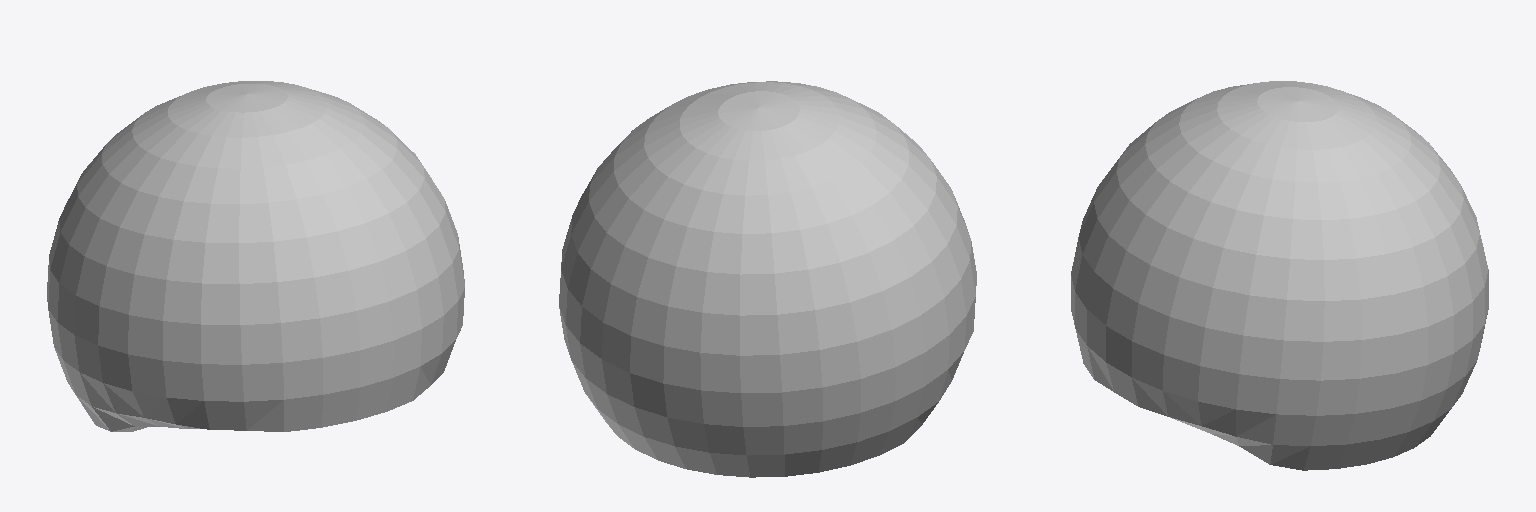
File: house_top.obj
The picture shows the model from 3 angles: view 1: azimuth 30°, elevation 25°; view 2: azimuth 150°, elevation 25°; view 3: azimuth 270°, elevation 25°; orthographic projection.
Visible parts, largest first — view 1: Mushroom_House_hat; view 2: Mushroom_House_hat; view 3: Mushroom_House_hat.
Boxes of the visible parts, x1,y1,x2,y2 form: Mushroom_House_hat: [47, 81, 464, 431]; Mushroom_House_hat: [559, 81, 976, 477]; Mushroom_House_hat: [1071, 81, 1488, 470].
Size of the model in its own units: 2.86 by 2.33 by 2.85.